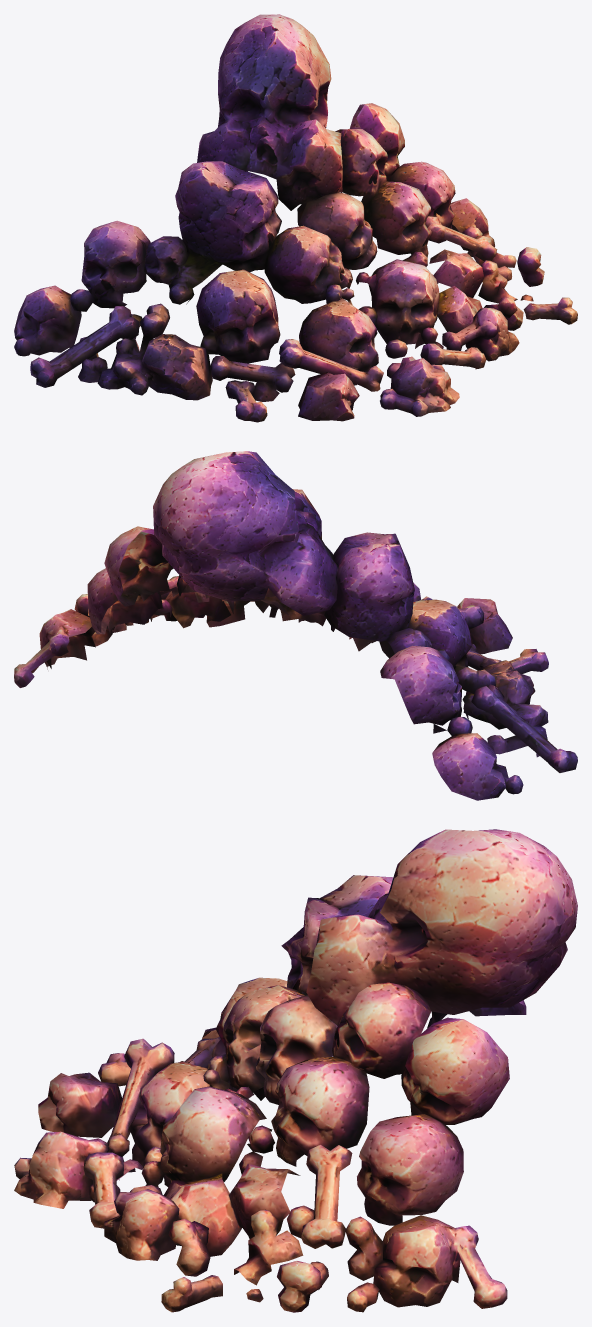
File: skull+pile+3d+model.fbx
The picture shows the model from 3 angles, top to bottom: view 1: azimuth 30°, elevation 25°; view 2: azimuth 150°, elevation 25°; view 3: azimuth 270°, elevation 25°; orthographic projection. The views are drawn at different scales.
Parts seen in each view (by area): view 1: tripo_4ebfc169_94e6_44e1_8223_2de518882635; view 2: tripo_4ebfc169_94e6_44e1_8223_2de518882635; view 3: tripo_4ebfc169_94e6_44e1_8223_2de518882635.
Boxes of the visible parts, box(x1,y1,x2,y2) form: tripo_4ebfc169_94e6_44e1_8223_2de518882635: box(14, 14, 577, 422); tripo_4ebfc169_94e6_44e1_8223_2de518882635: box(14, 451, 577, 800); tripo_4ebfc169_94e6_44e1_8223_2de518882635: box(14, 829, 577, 1312).
Bounding box in the file's own units: 0.9995 × 0.522 × 0.7358.
